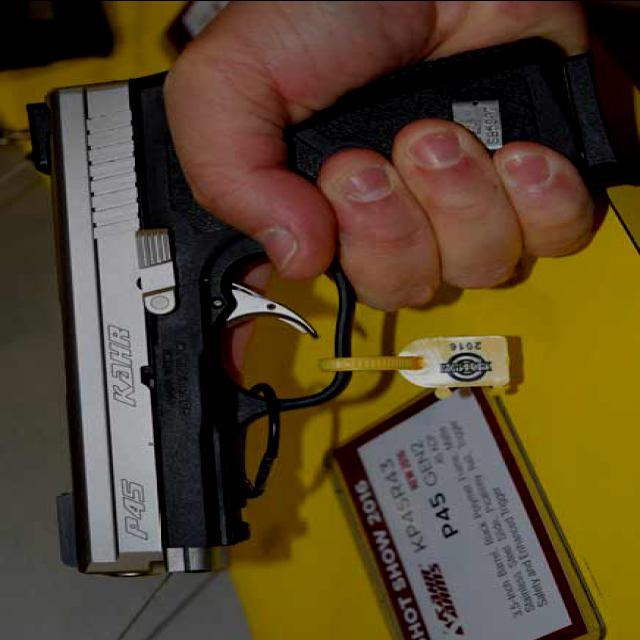handgun: (25, 37, 603, 580)
